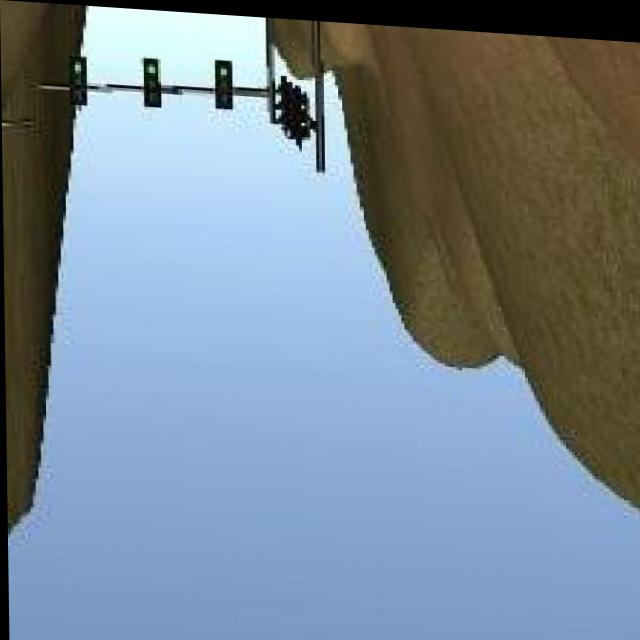green light: (141, 56, 161, 111), (70, 52, 87, 110), (215, 57, 229, 106)
